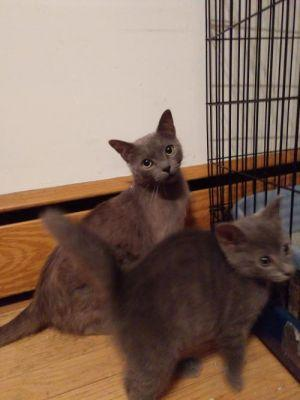rblue: (104, 107, 206, 203)
